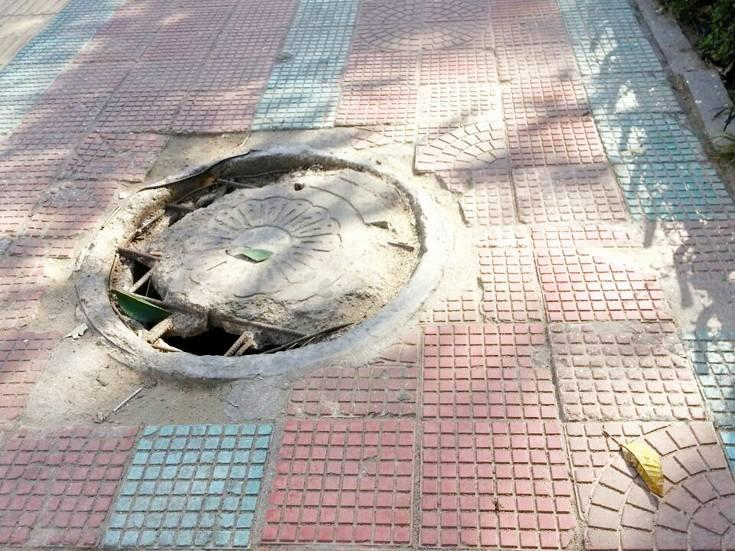wellcover: (78, 147, 447, 371)
